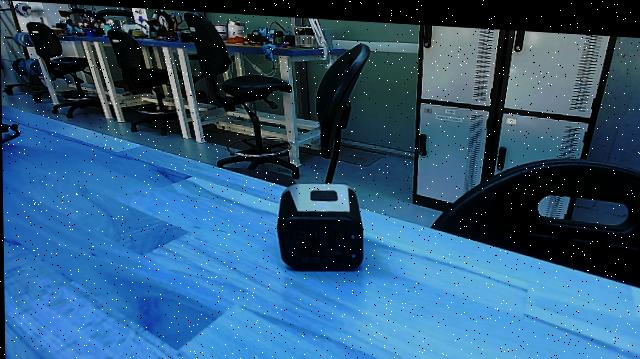adapter: (275, 178, 372, 272)
